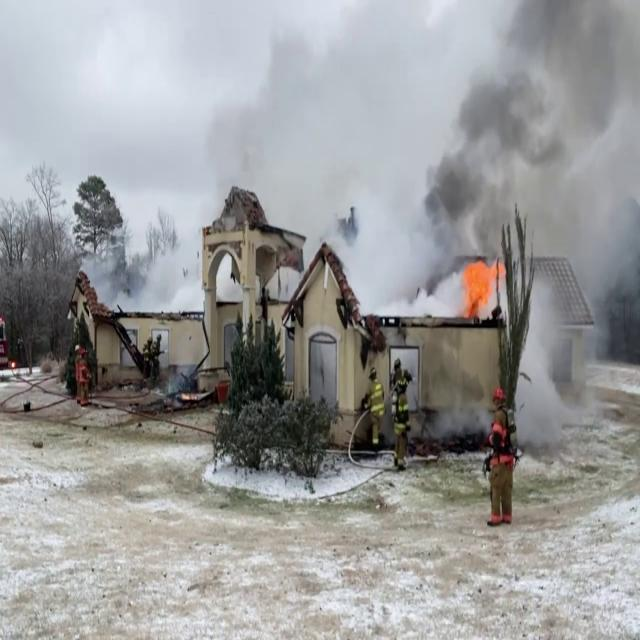Fire: (454, 252, 502, 321)
Smoke: (416, 0, 640, 271), (131, 225, 208, 318)
